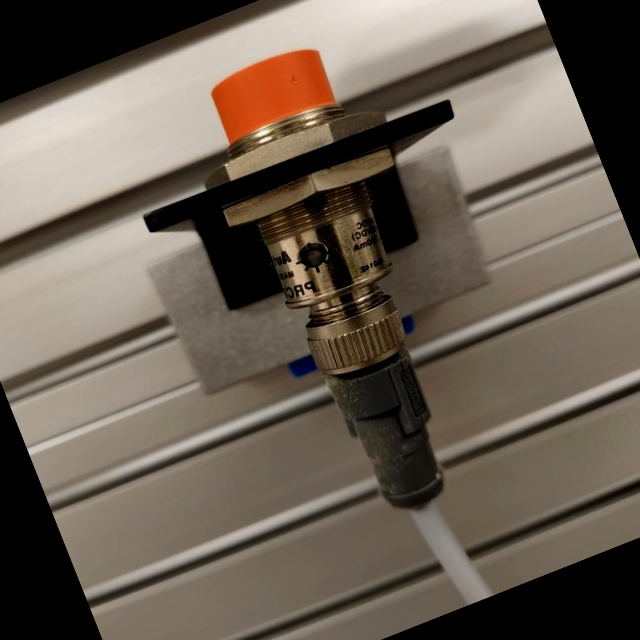inductive sensor: (74, 0, 592, 582)
